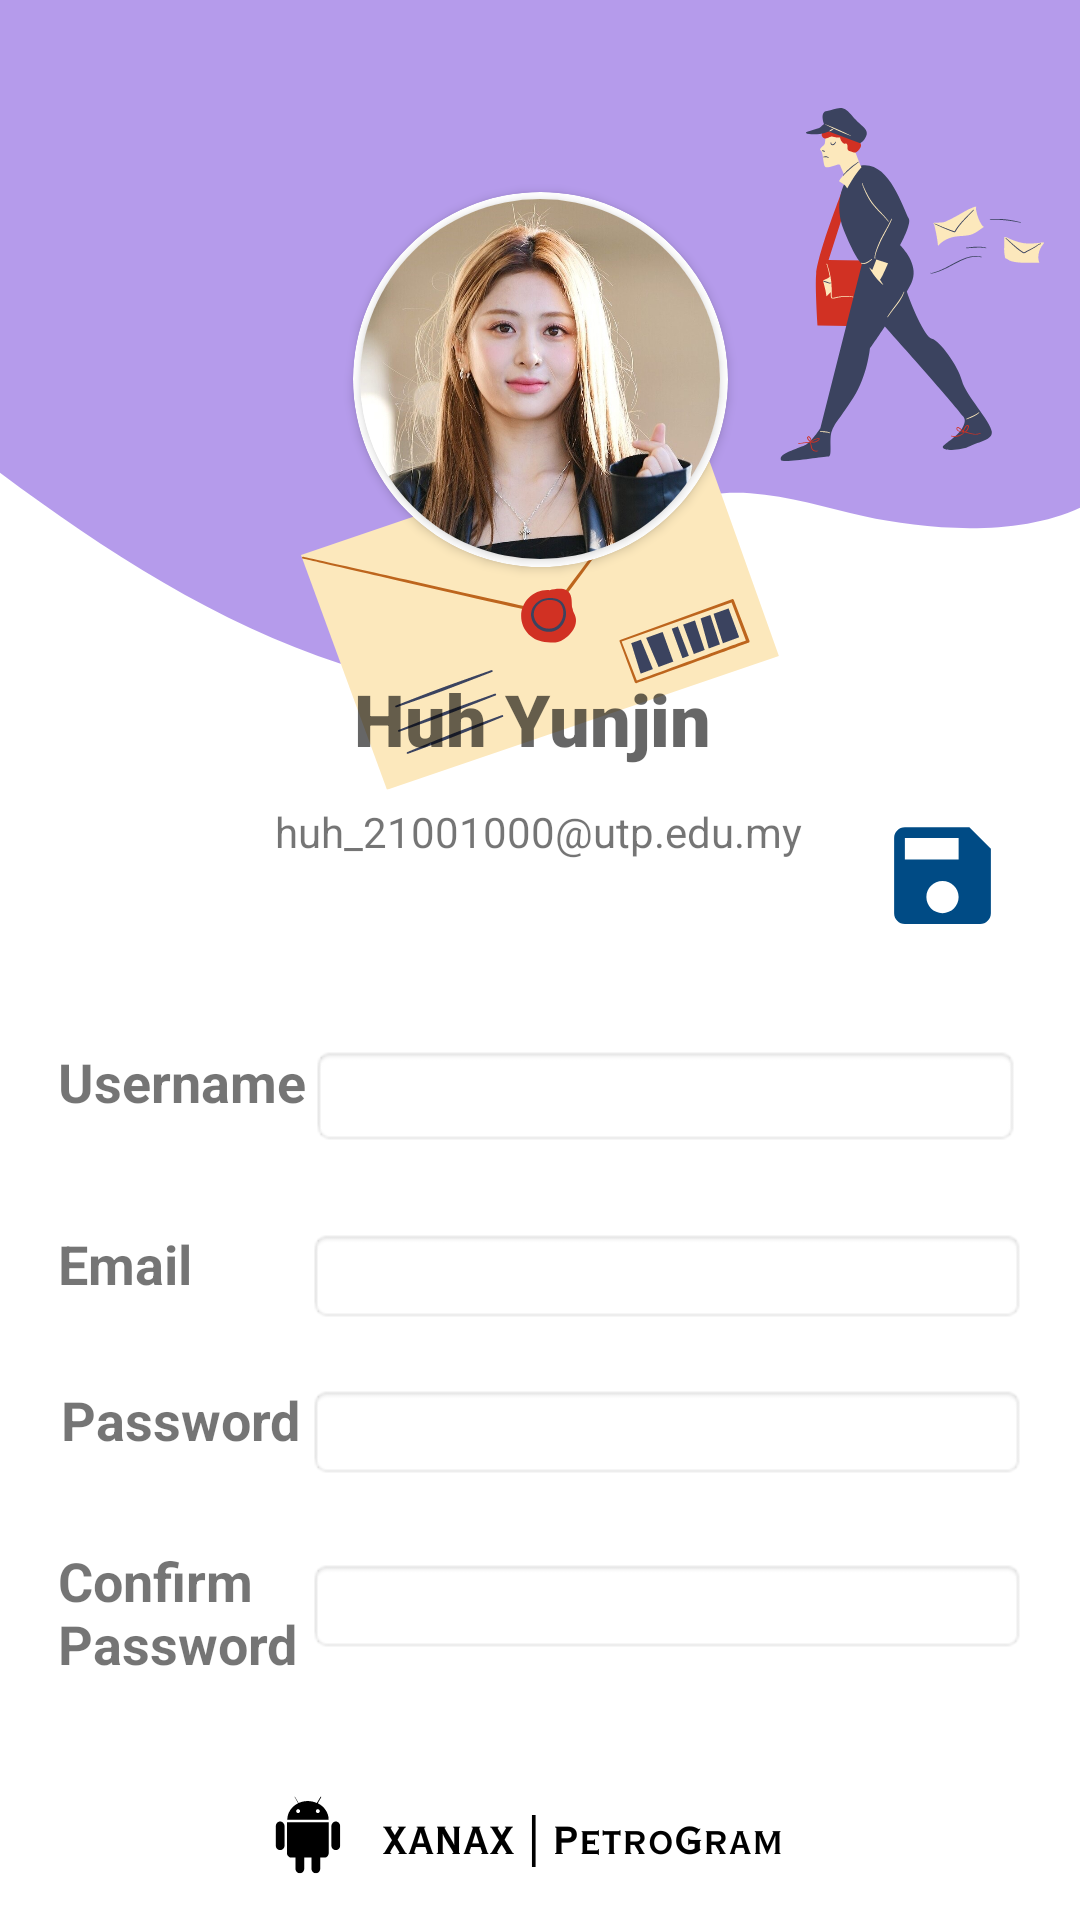

Screen size 1080×1920. Icon name, then its center in pixels as (x,y):
save: (942,875)
